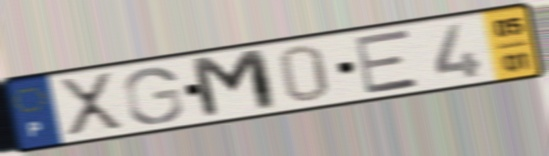0: (276, 42, 334, 105)
4: (430, 20, 486, 80)
E: (351, 27, 424, 97)
G: (121, 65, 186, 126)
M: (187, 46, 283, 122)
X: (55, 70, 128, 138)
